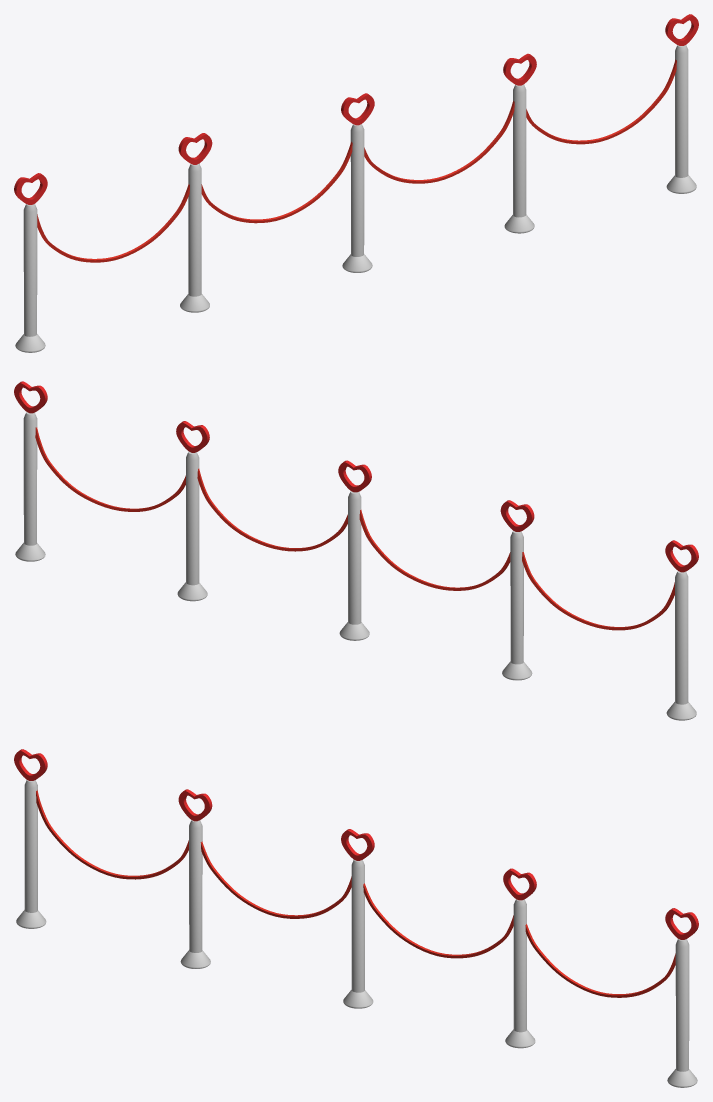
The model's file is Border_001.fbx.
3 views of the same model, one above another, from view 1: azimuth 30°, elevation 25°; view 2: azimuth 150°, elevation 25°; view 3: azimuth 330°, elevation 25° (orthographic).
Visible parts, largest first — view 1: Border_001; view 2: Border_001; view 3: Border_001.
Part boxes in pixels (left/top/right/bottom): Border_001: left=14, top=14, right=698, bottom=352; Border_001: left=14, top=381, right=698, bottom=720; Border_001: left=14, top=749, right=698, bottom=1087.
Size of the model in its own units: 924 by 222 by 34.69.
